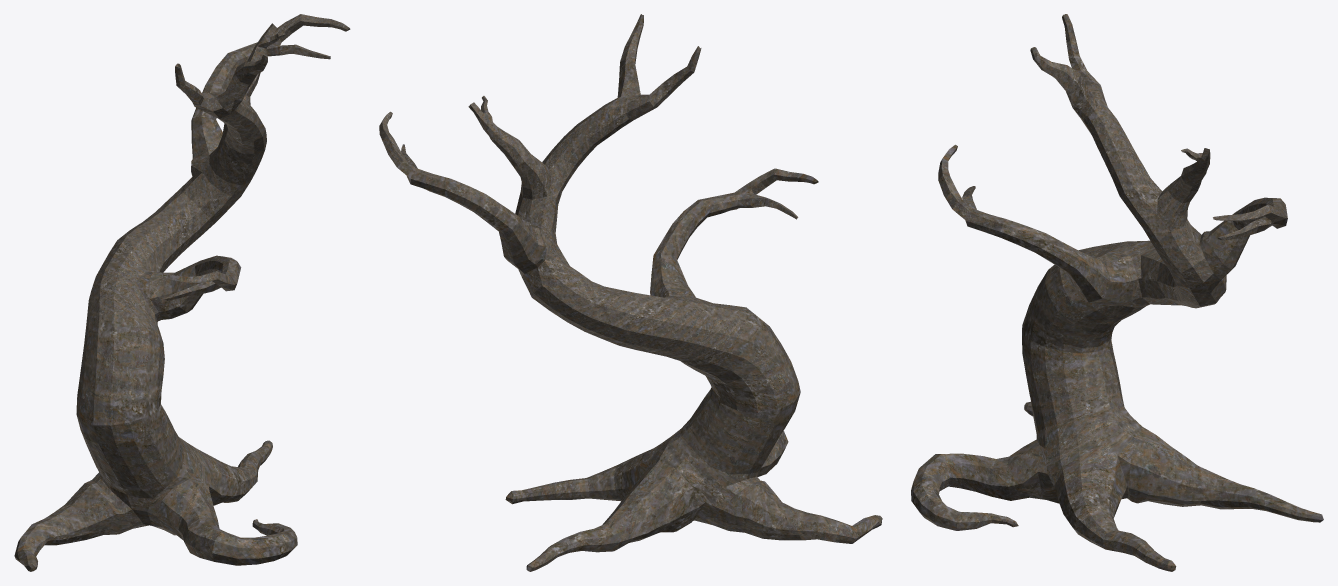
The model's file is Tree1Material.fbx.
The picture shows the model from 3 angles, left to right: view 1: azimuth 30°, elevation 25°; view 2: azimuth 150°, elevation 25°; view 3: azimuth 270°, elevation 25°; orthographic projection. The views are drawn at different scales.
Parts seen in each view (by area): view 1: Tree_2; view 2: Tree_2; view 3: Tree_2.
Part boxes in pixels (x1,y1,x2,y2): Tree_2: (14,14,350,571); Tree_2: (379,14,882,571); Tree_2: (911,14,1323,571).
Bounding box in the file's own units: 772 × 842 × 633.
1 material, 1 textured.
